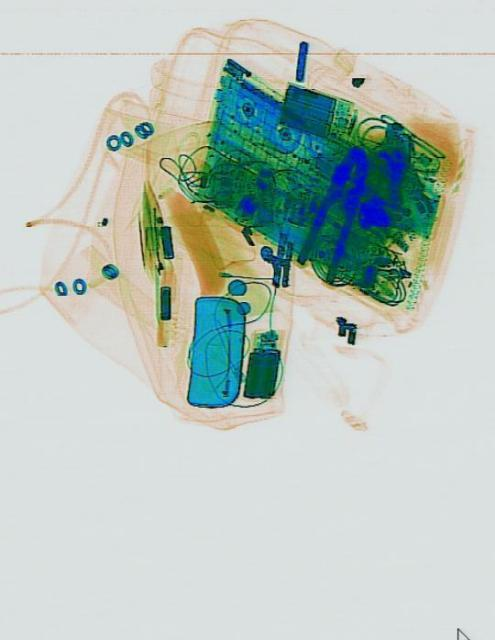Pliers: (292, 135, 375, 285)
